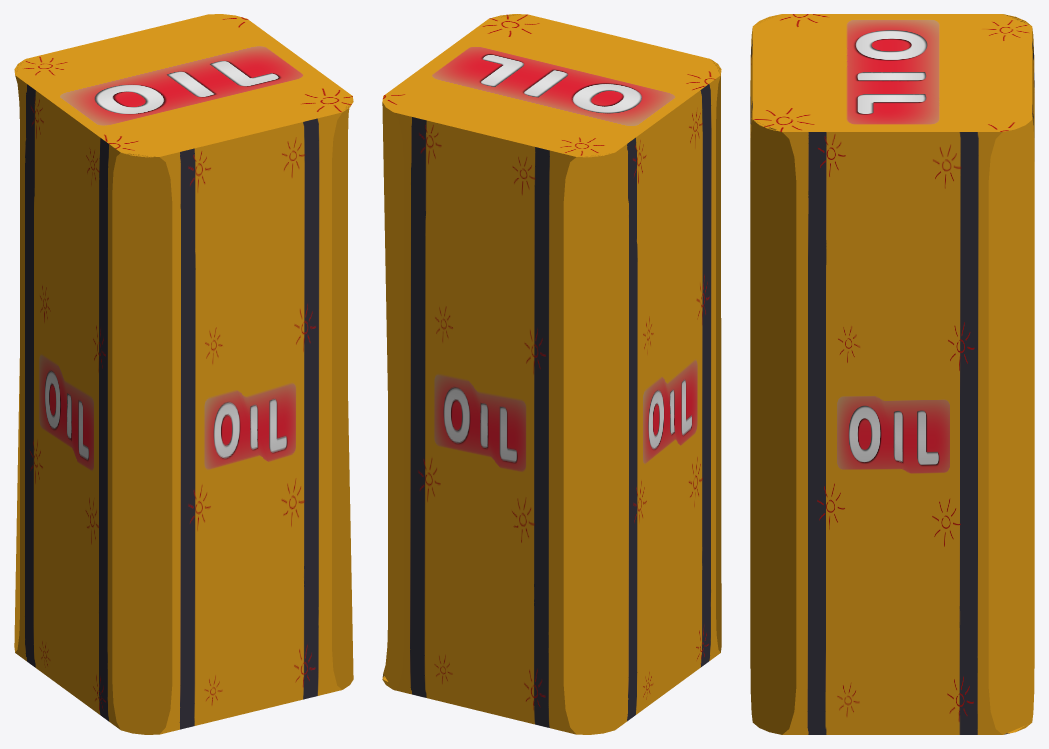
File: Yag.fbx
The picture shows the model from 3 angles, left to right: view 1: azimuth 30°, elevation 25°; view 2: azimuth 150°, elevation 25°; view 3: azimuth 270°, elevation 25°; orthographic projection. The views are drawn at different scales.
Visible parts, largest first — view 1: Yag; view 2: Yag; view 3: Yag.
Part boxes in pixels (x1=…): Yag: x1=14, y1=14, x2=353, y2=734; Yag: x1=382, y1=14, x2=721, y2=734; Yag: x1=750, y1=14, x2=1034, y2=734.
Bounding box in the file's own units: 20.57 × 48.17 × 20.57.
Materials: 1 (1 with a texture image).
